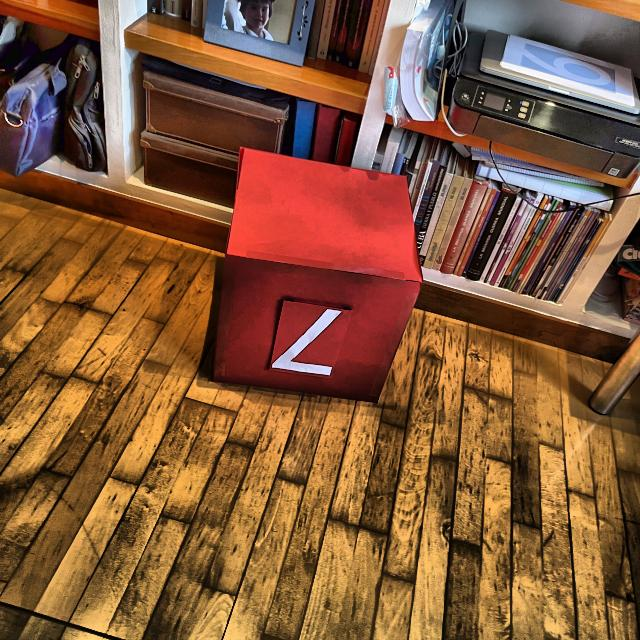red box: (210, 148, 422, 404)
seven: (270, 306, 344, 375)
